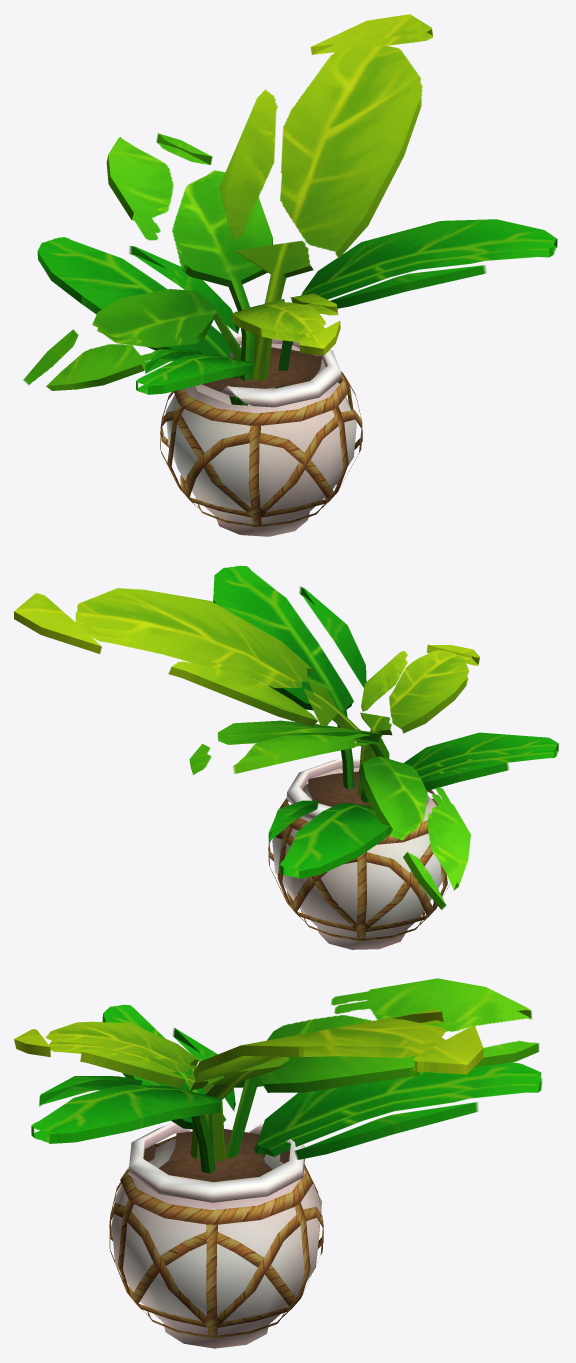
Rendered from my_sunshineresort_01_plantpot_02.glb.
The picture shows the model from 3 angles, top to bottom: view 1: azimuth 30°, elevation 25°; view 2: azimuth 150°, elevation 25°; view 3: azimuth 270°, elevation 25°; orthographic projection. The views are drawn at different scales.
Visible parts, largest first — view 1: my_sunshineresort_01_plantpot_02; view 2: my_sunshineresort_01_plantpot_02; view 3: my_sunshineresort_01_plantpot_02.
Boxes of the visible parts, x1,y1,x2,y2 form: my_sunshineresort_01_plantpot_02: (23, 14, 557, 536); my_sunshineresort_01_plantpot_02: (14, 565, 558, 949); my_sunshineresort_01_plantpot_02: (14, 978, 542, 1348).
Size of the model in its own units: 0.00964 by 0.00768 by 0.00935.
1 material, 1 textured.
